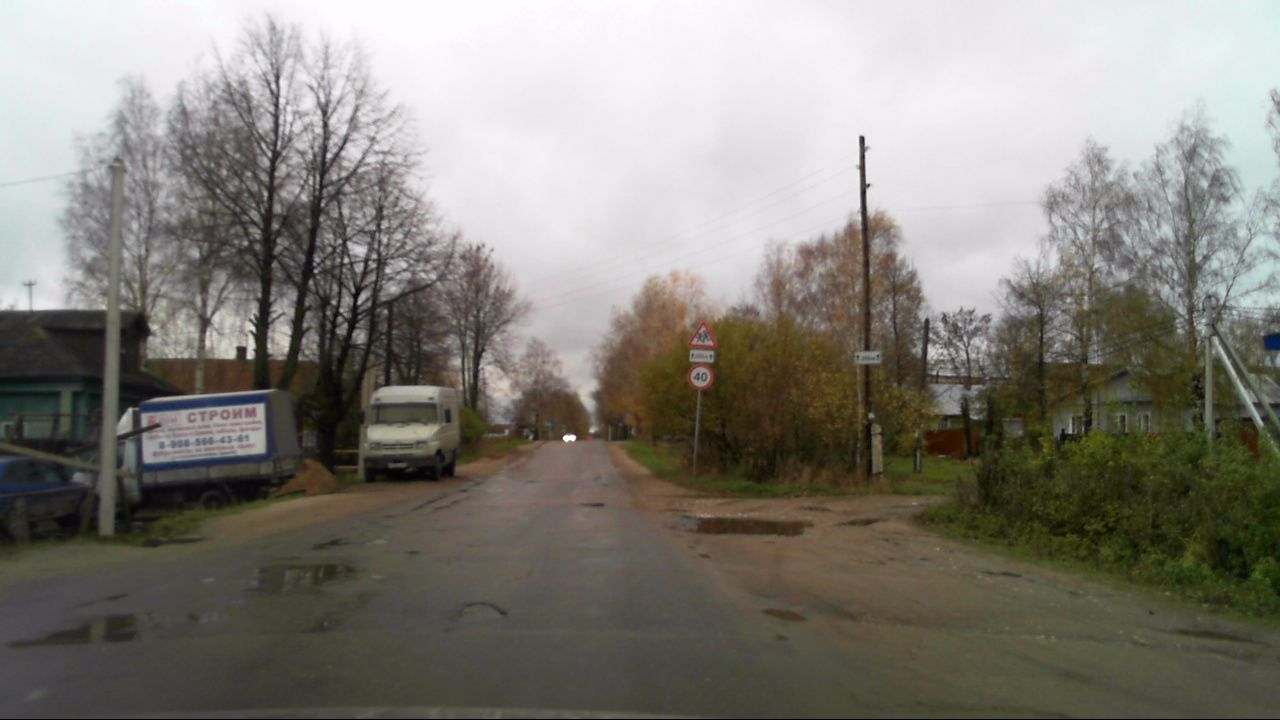speed_warning_40: (685, 363, 716, 390)
